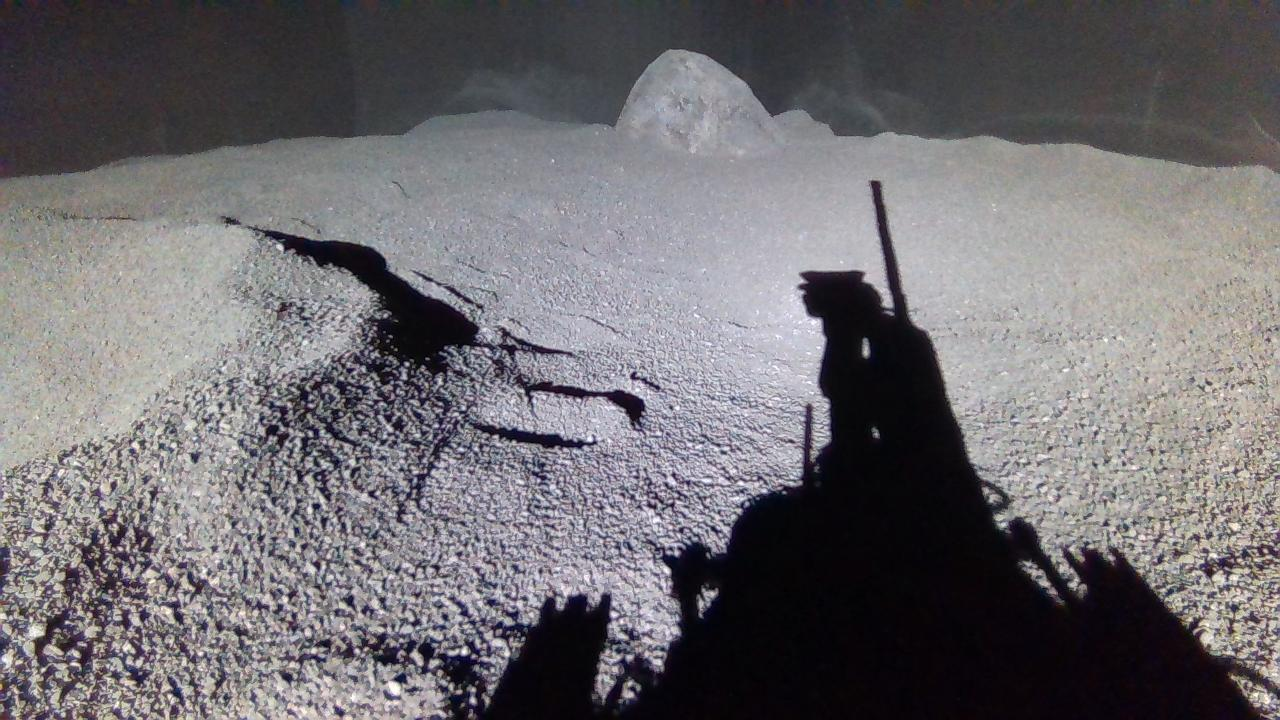rock: (617, 48, 786, 154)
